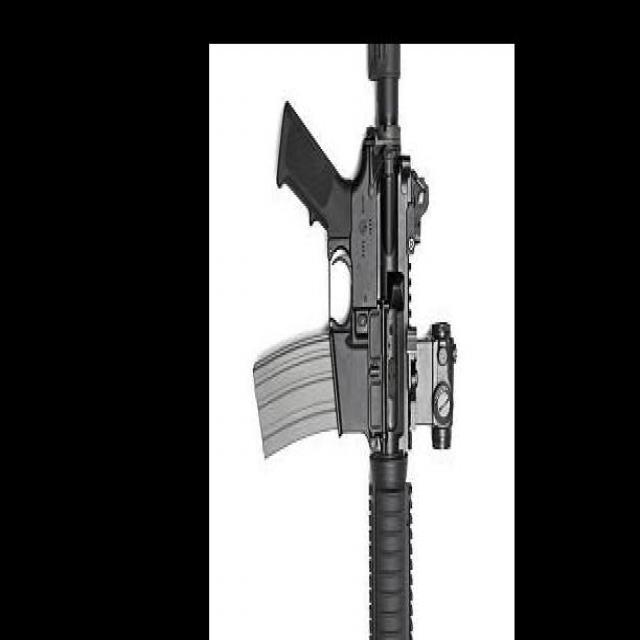weapon: (252, 42, 458, 640)
